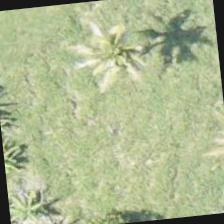Kelapa_Sawit: (0, 70, 99, 170)
